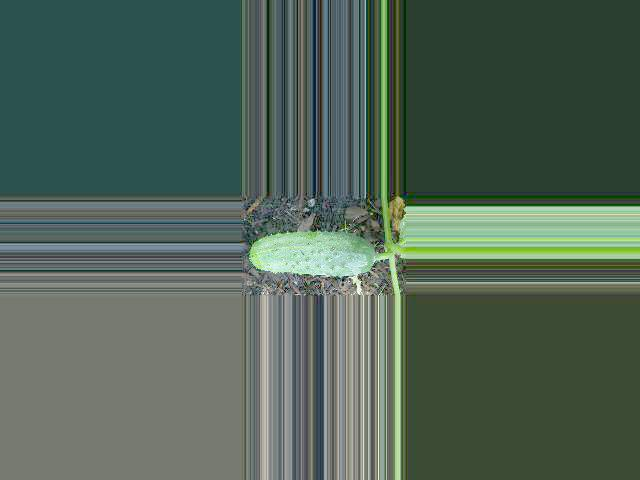cucumber: (248, 230, 374, 276)
